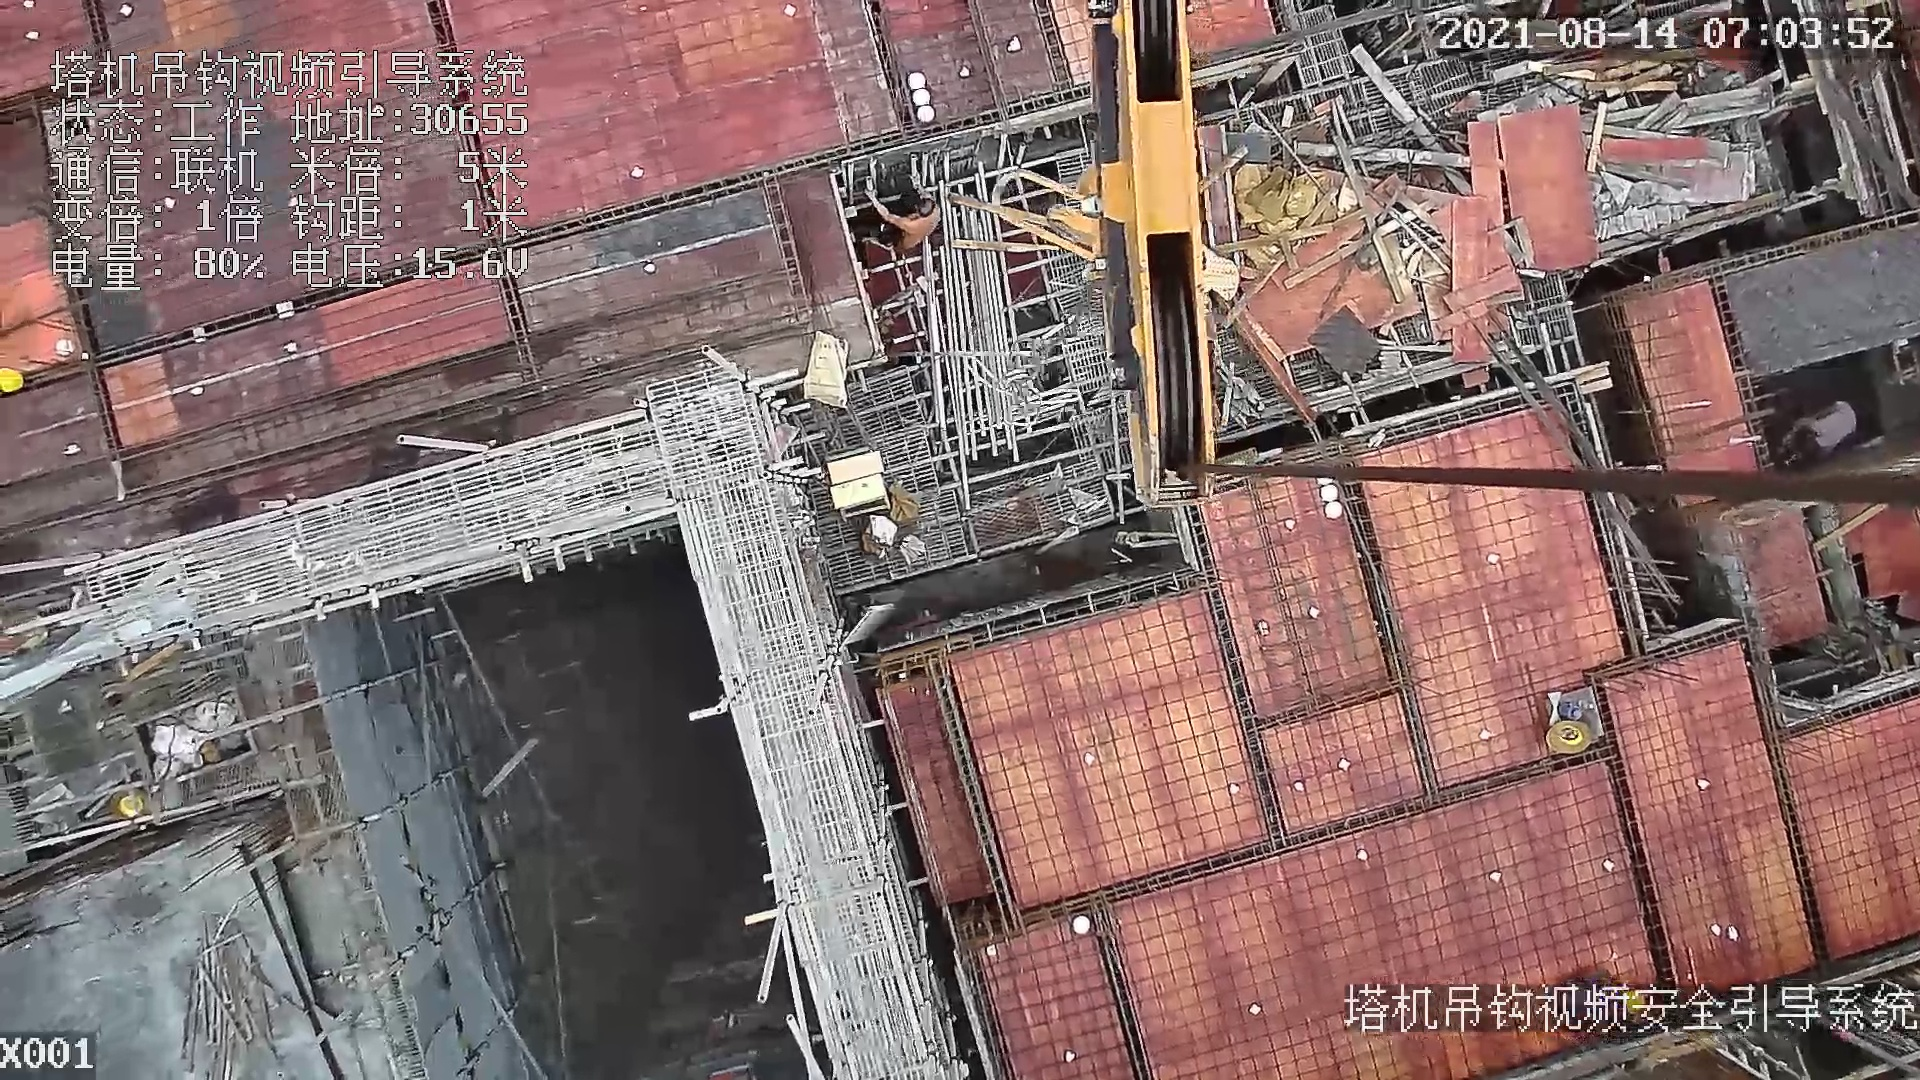hook: (981, 1, 1226, 509)
person: (863, 182, 943, 255), (1778, 402, 1867, 459)
